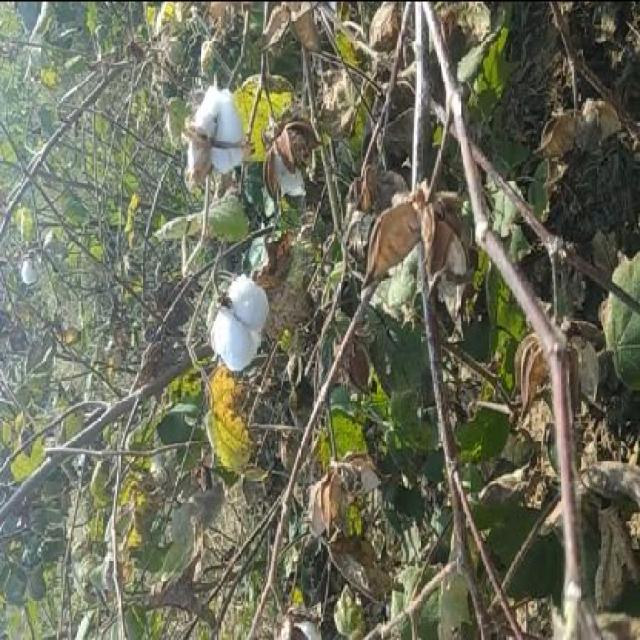cotton_ready: (170, 60, 279, 208), (209, 251, 300, 406)
